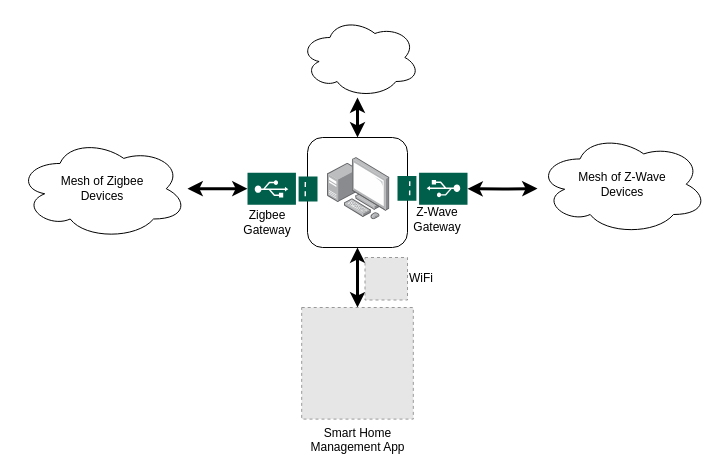
This 725x473 diagram has some shape labels left out. Grey dashed boxes stand in for pictures. Here are the shapes that lost their labels. From the top down, the centre of each, then its label:
[359,57]: Internet
[358,188]: Local Hub
